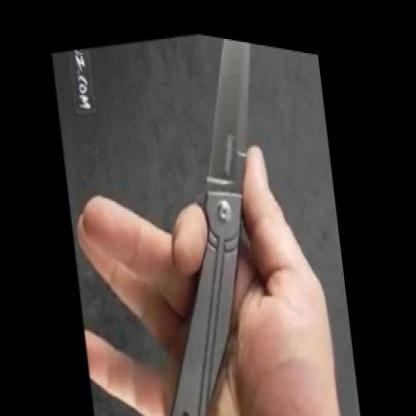knife: (146, 20, 301, 326)
